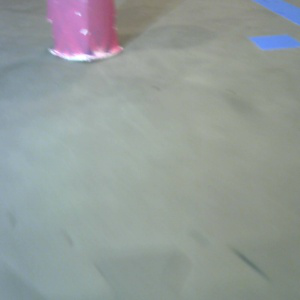middle: (47, 1, 124, 62)
